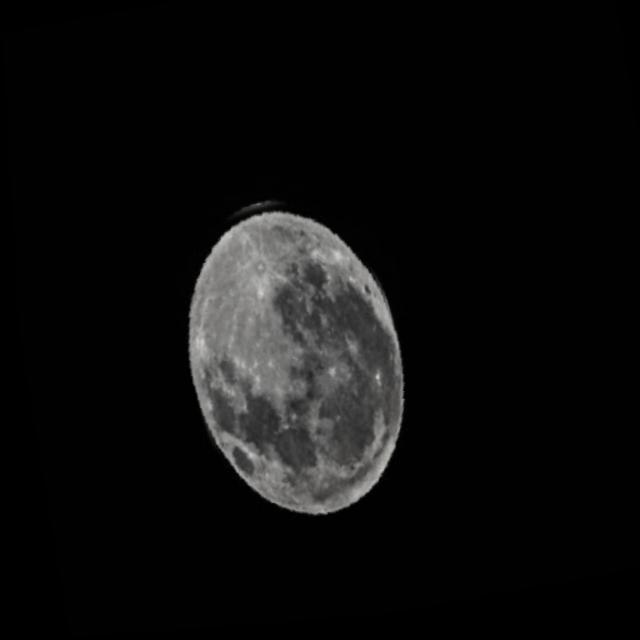moon: (154, 175, 428, 540)
